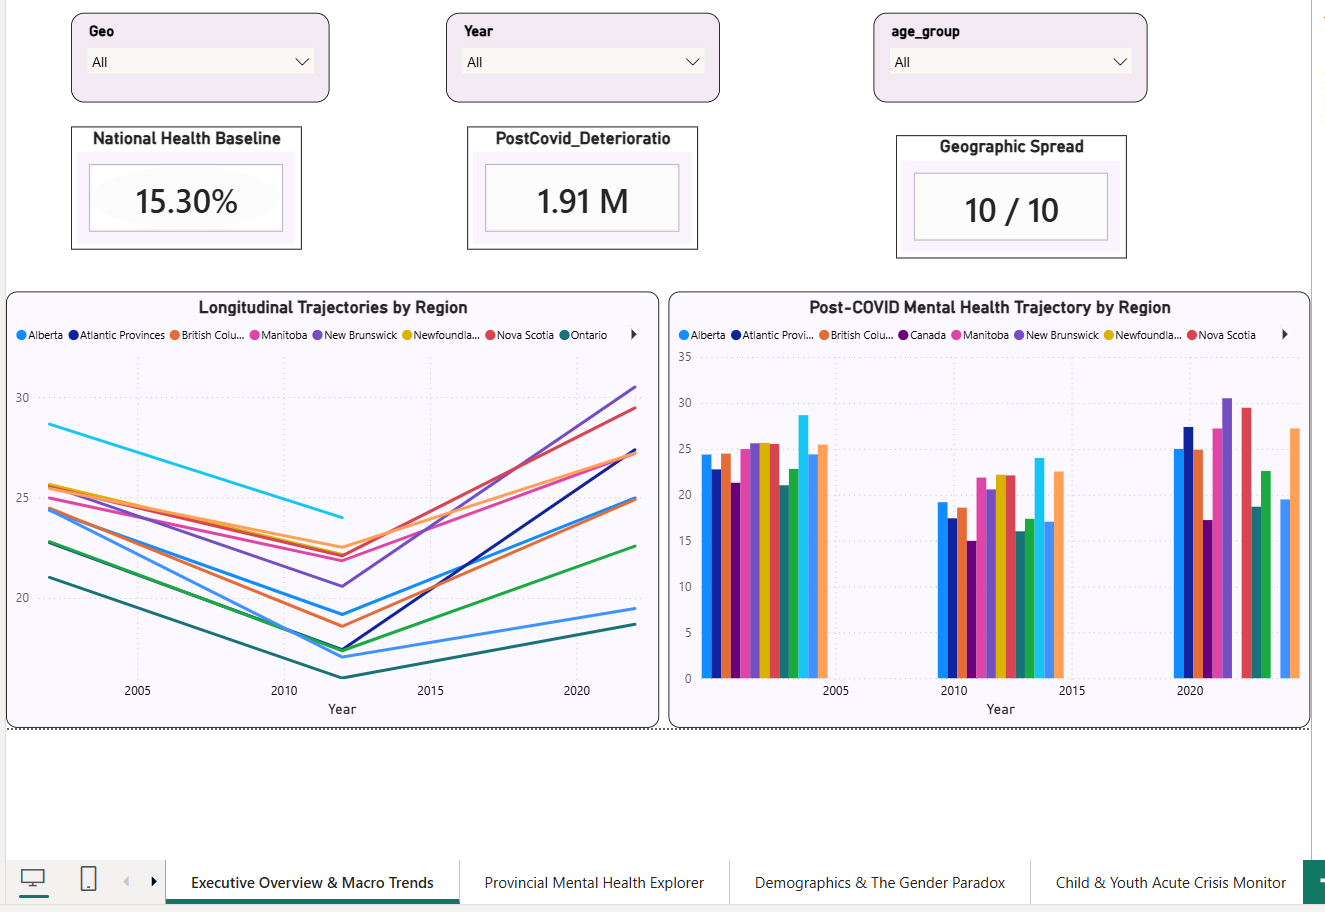

The dashboard page shown, as its layout file describes it:
{"tool":"powerbi","page":{"name":"Executive Overview & Macro Trends","canvas":[1280,720],"ordinal":0},"visuals":[{"type":"slicer","title":"Region","fields":{"Values":["Dim_Geography.geo"]},"box":[63.6,18.8,1089,87.8],"z":0},{"type":"cardVisual","title":"National Health Baseline","fields":{"Data":["Measure Table.National_MH_Rate"]},"box":[77,129.9,226.6,120.9],"z":3000},{"type":"cardVisual","title":"Geographic Spread","fields":{"Data":["Measure Table.Province_Worsening_Rate"]},"box":[862.4,129.9,247.2,120.9],"z":4000},{"type":"cardVisual","title":"PostCovid_Deterioratio","fields":{"Data":["Measure Table.PostCovid_Deterioration"]},"box":[464,130.3,225.7,120.6],"z":5000},{"type":"lineChart","title":"Longitudinal Trajectories by Region","fields":{"Category":["Dim_Year.Year"],"Y":["Measure Table.Total_Value"],"Series":["Dim_Geography.geo"]},"box":[0,292.4,640.4,427.9],"z":6000},{"type":"clusteredColumnChart","title":"Post-COVID Mental Health Trajectory by Region","fields":{"Category":["Dim_Year.Year"],"Y":["Measure Table.Total_Value"],"Series":["Dim_Geography.geo"]},"box":[650.3,292.4,629.7,427.9],"z":7000}]}

Visuals, with their boxes in screenshot pixels (x1, y1, x2, y2):
"Region" slicer: [65,9,1177,98]
"National Health Baseline" cardVisual: [79,122,310,246]
"Geographic Spread" cardVisual: [880,122,1133,246]
"PostCovid_Deterioratio" cardVisual: [474,123,704,246]
"Longitudinal Trajectories by Region" lineChart: [0,288,654,725]
"Post-COVID Mental Health Trajectory by Region" clusteredColumnChart: [664,288,1307,725]
